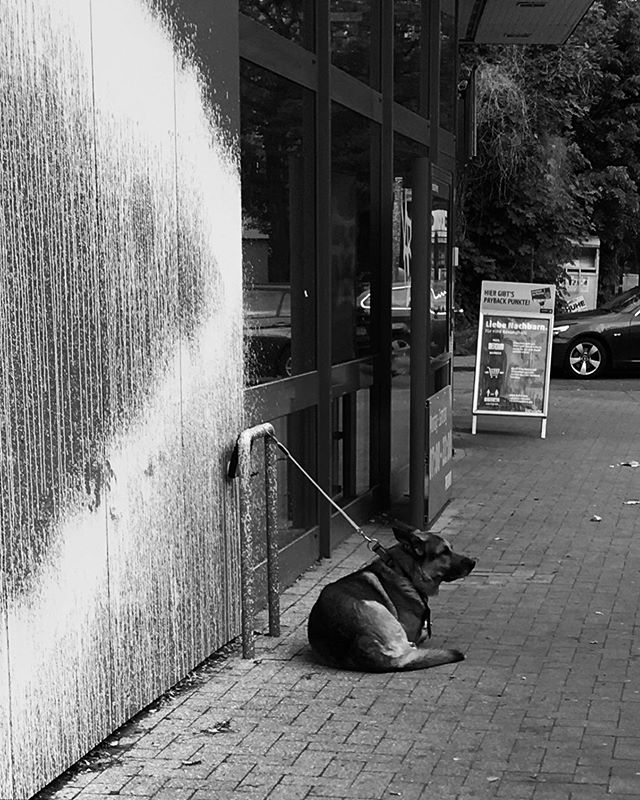animal: (287, 498, 485, 685)
building: (1, 1, 457, 758)
sign: (469, 275, 557, 437)
